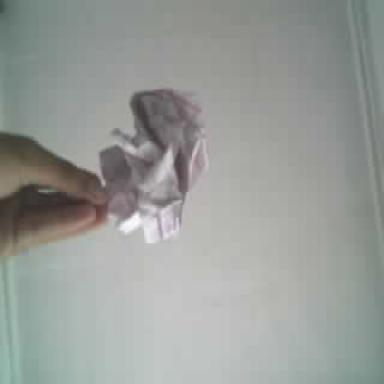paper: (100, 90, 206, 242)
